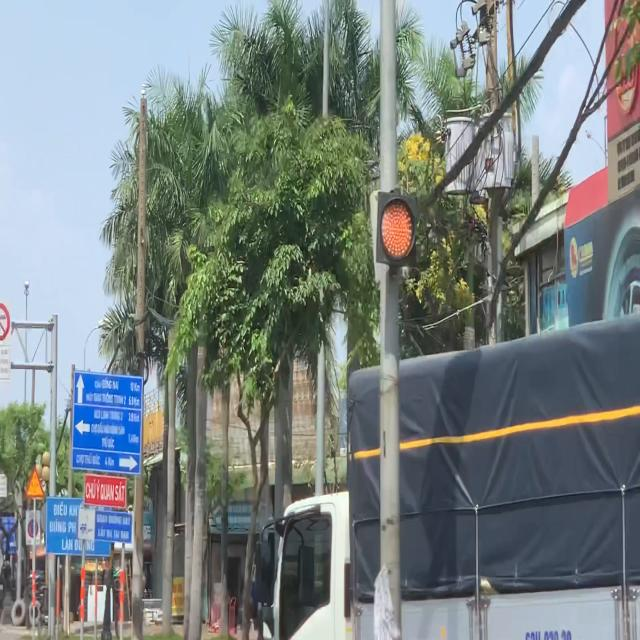Nguy hiem: (25, 466, 44, 498)
